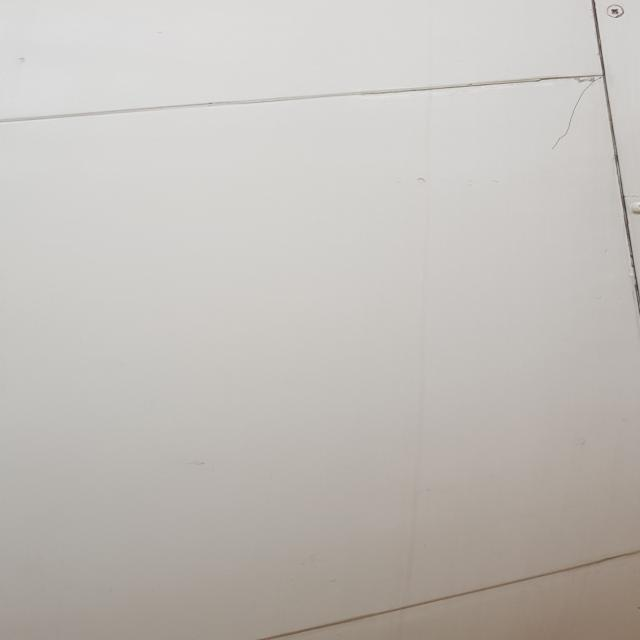crack: (549, 78, 608, 160)
